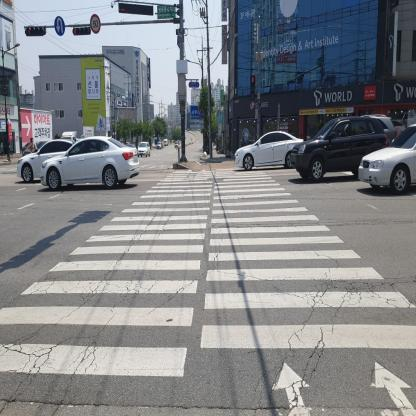Red: (250, 76, 255, 100)
